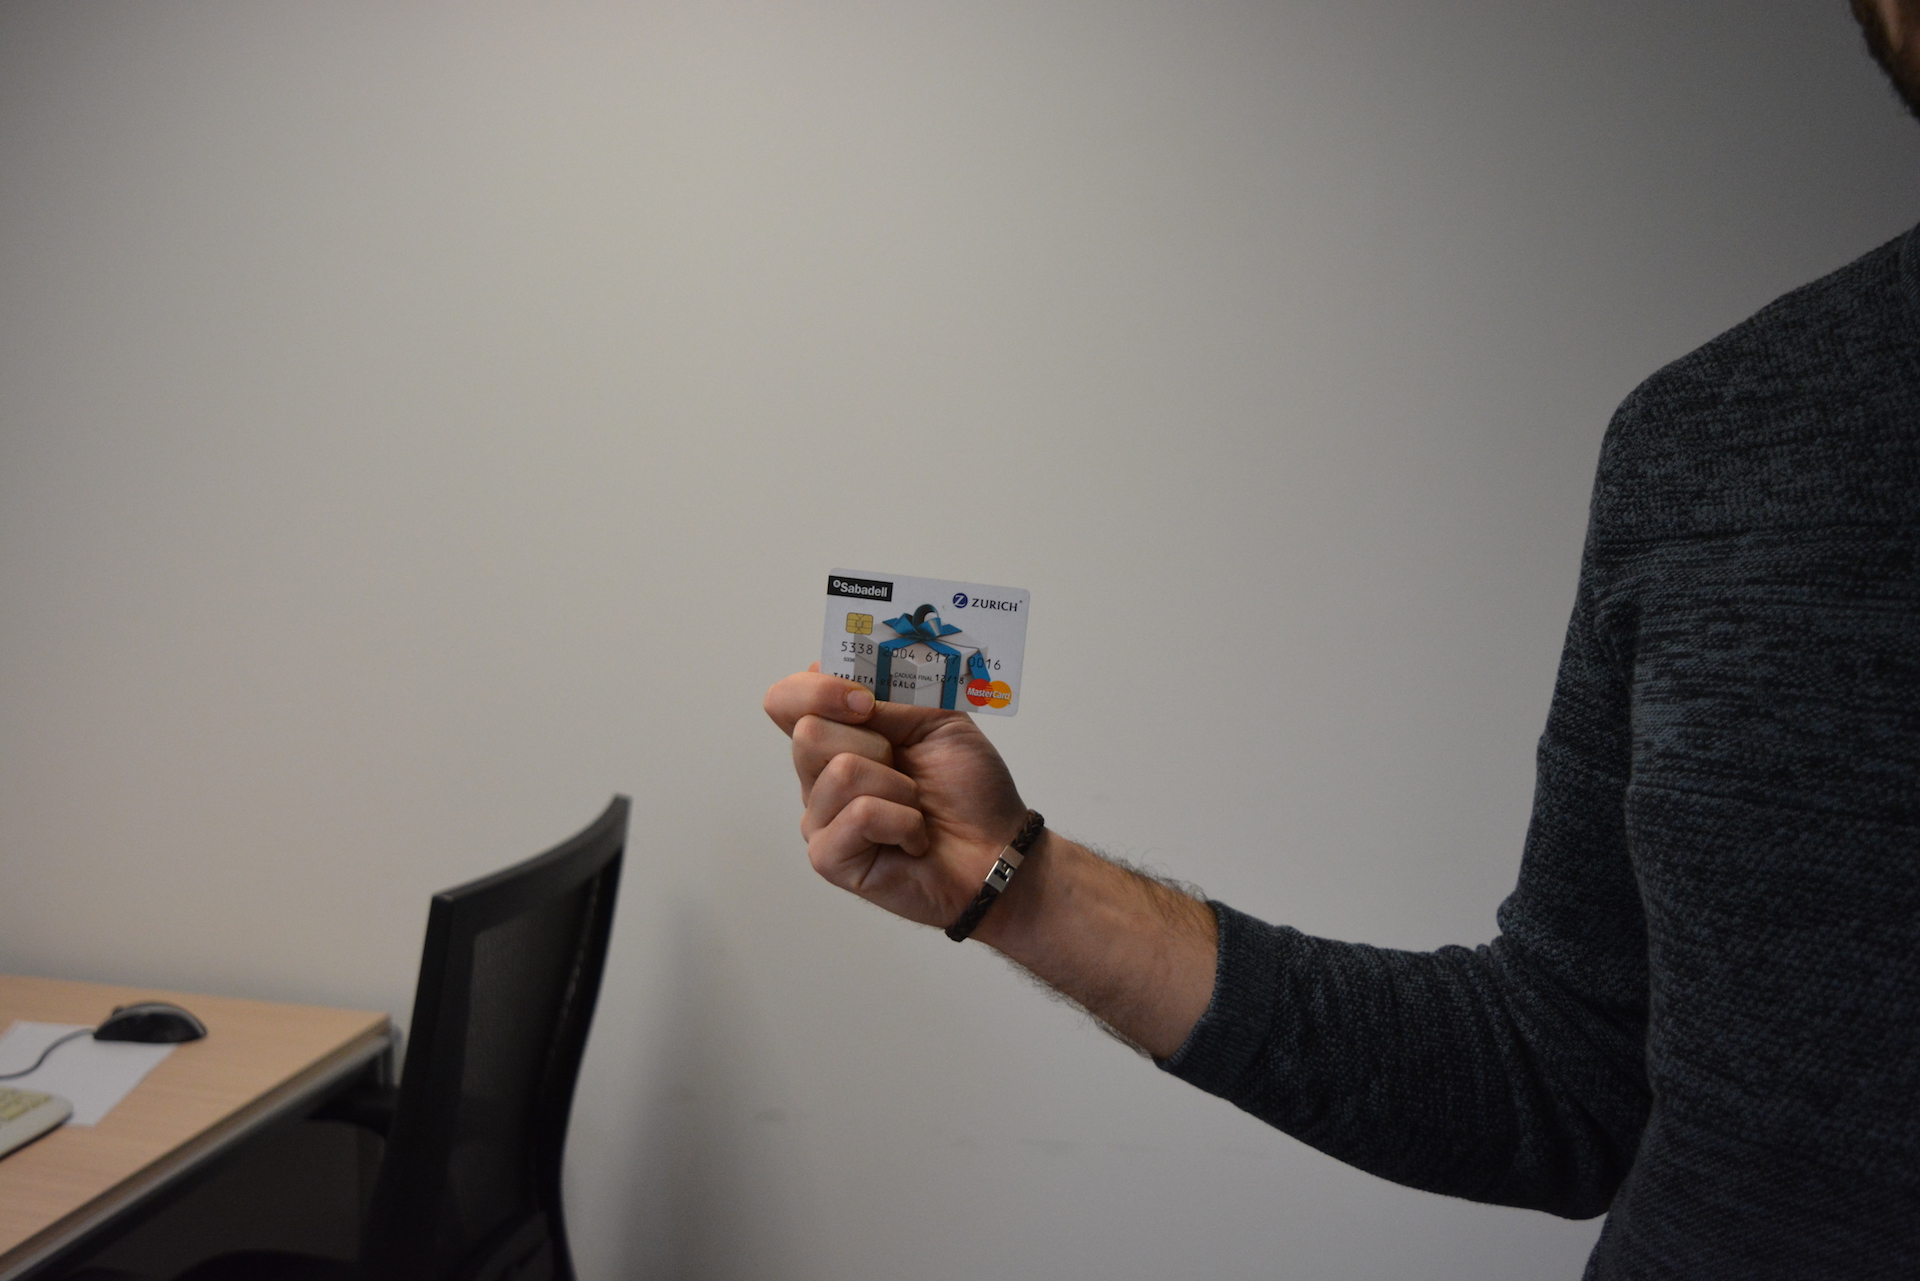tarjeta: (818, 566, 1032, 719)
